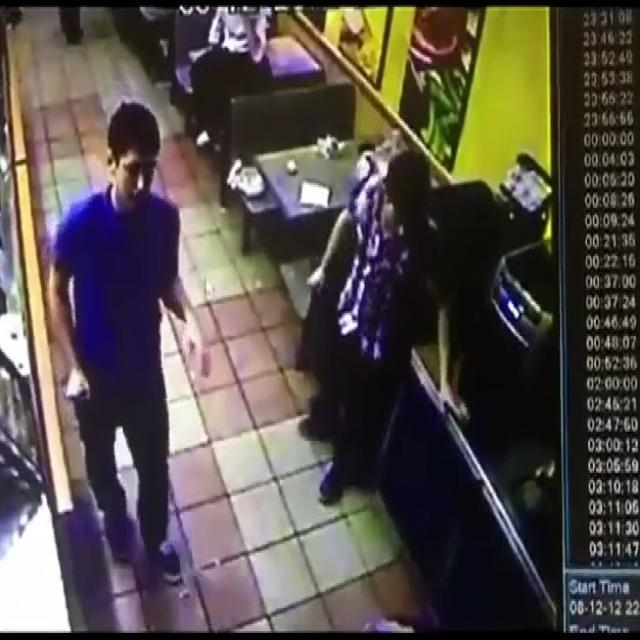fight: (46, 95, 185, 592)
